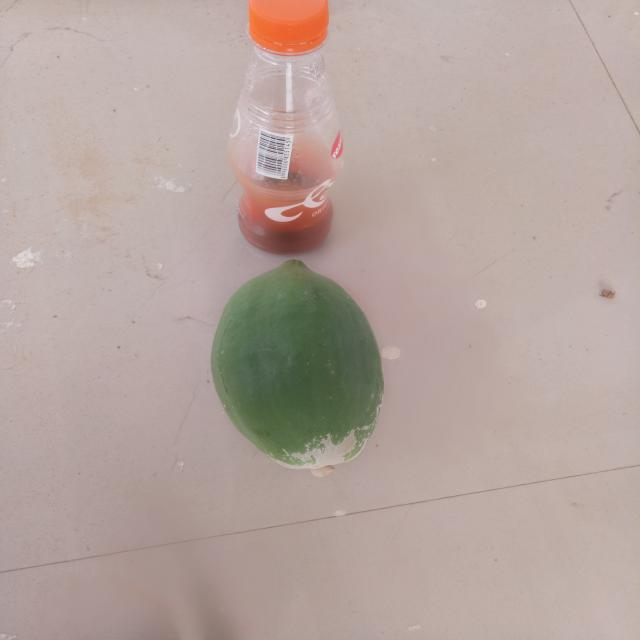Pepaya unrippen: (210, 254, 392, 473)
